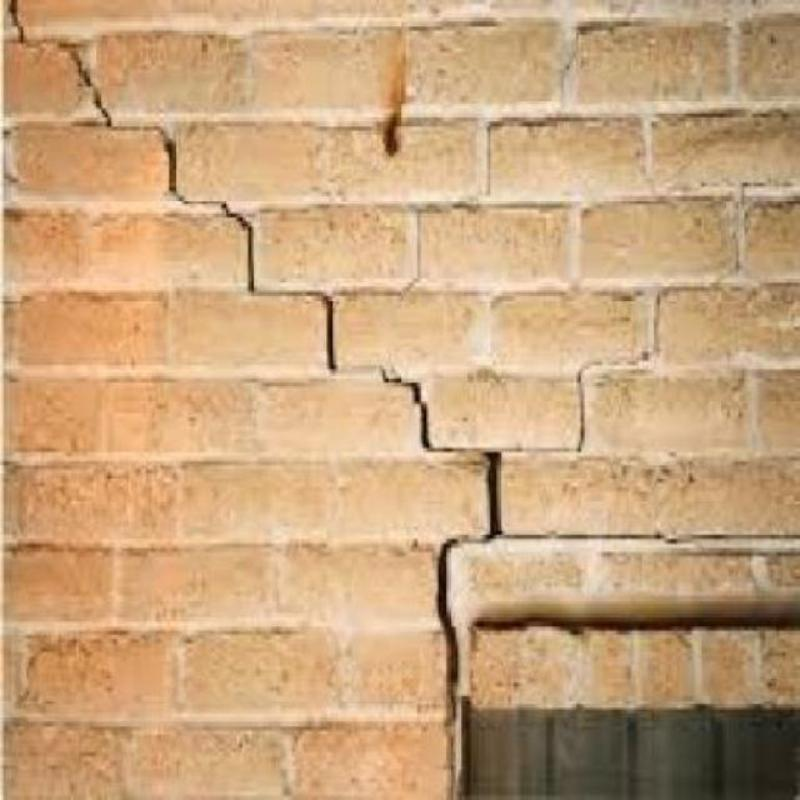pothole: (428, 236, 740, 453), (331, 123, 492, 298), (65, 45, 160, 132), (248, 290, 337, 372), (198, 200, 256, 297), (459, 531, 799, 545), (382, 369, 436, 450), (160, 128, 208, 206), (436, 541, 458, 683), (484, 452, 502, 538), (559, 29, 580, 102), (739, 181, 791, 210), (9, 0, 23, 39)
